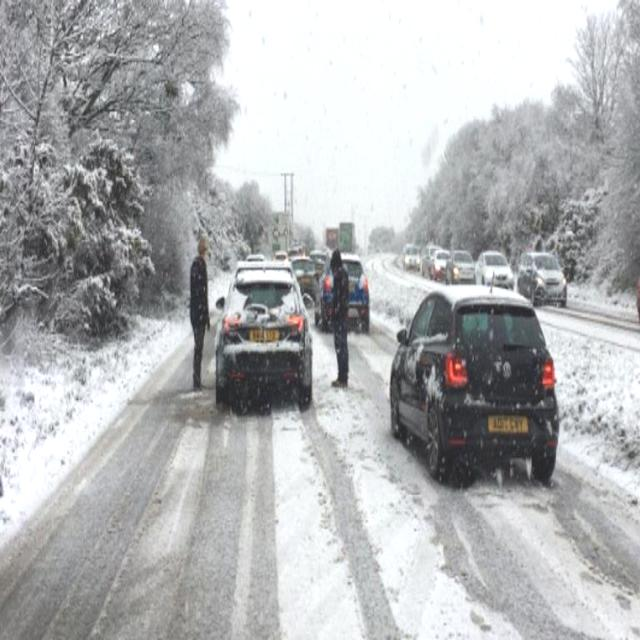Car: (390, 284, 560, 486), (213, 269, 313, 408), (516, 249, 567, 310), (475, 248, 514, 291), (444, 246, 475, 286)
